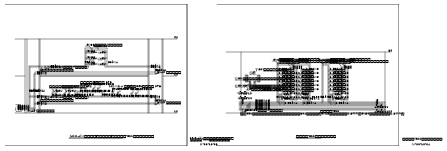corridor: (360, 47, 366, 87)
door: (281, 78, 283, 78), (280, 77, 282, 77), (372, 67, 376, 67)
room: (40, 85, 162, 114), (40, 78, 162, 103), (40, 53, 162, 74), (309, 47, 345, 87), (164, 35, 178, 114), (25, 43, 39, 114), (318, 49, 336, 84), (376, 49, 389, 84), (25, 35, 39, 45), (25, 40, 33, 52), (12, 36, 19, 44), (39, 47, 44, 53), (91, 103, 98, 106), (303, 87, 310, 90), (354, 87, 361, 90), (39, 80, 44, 84), (271, 36, 277, 39)
